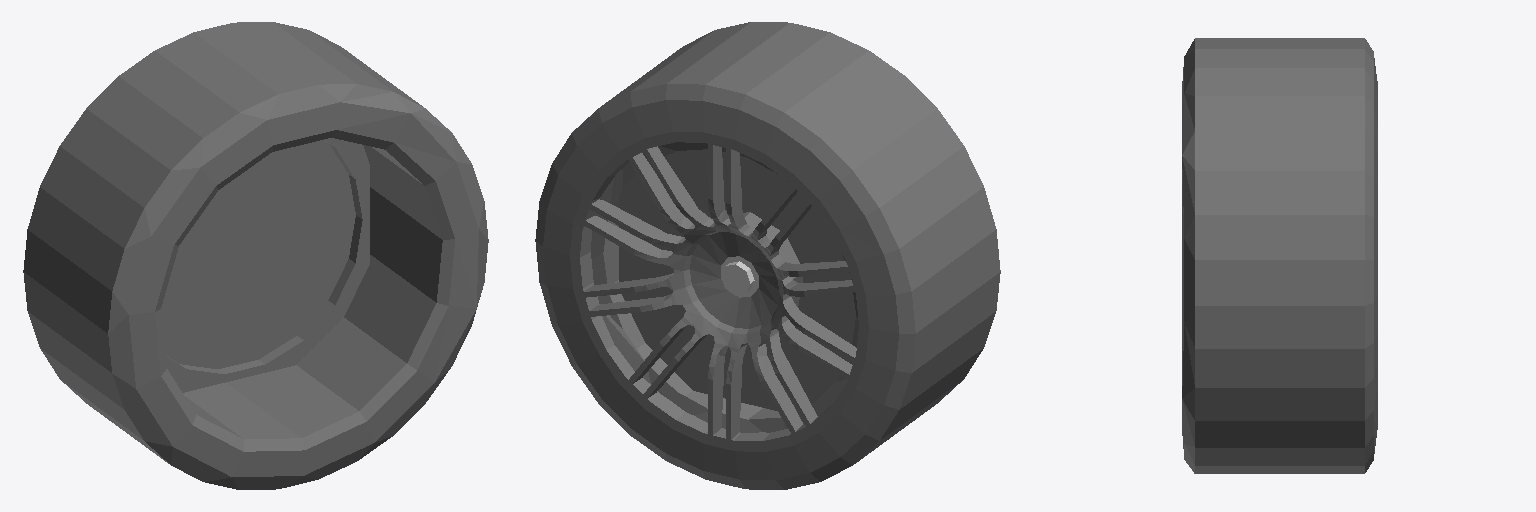
Rendered from front_right_wheel.obj.
3 renders of one model, left to right at view 1: azimuth 30°, elevation 25°; view 2: azimuth 150°, elevation 25°; view 3: azimuth 270°, elevation 25°, orthographic.
Parts seen in each view (by area): view 1: (null); view 2: (null); view 3: (null).
Boxes of the visible parts, x1=… form: (null): x1=23, y1=22, x2=488, y2=489; (null): x1=535, y1=22, x2=1000, y2=489; (null): x1=1182, y1=38, x2=1377, y2=473.
Bounding box in the file's own units: 2129 × 2112 × 948.